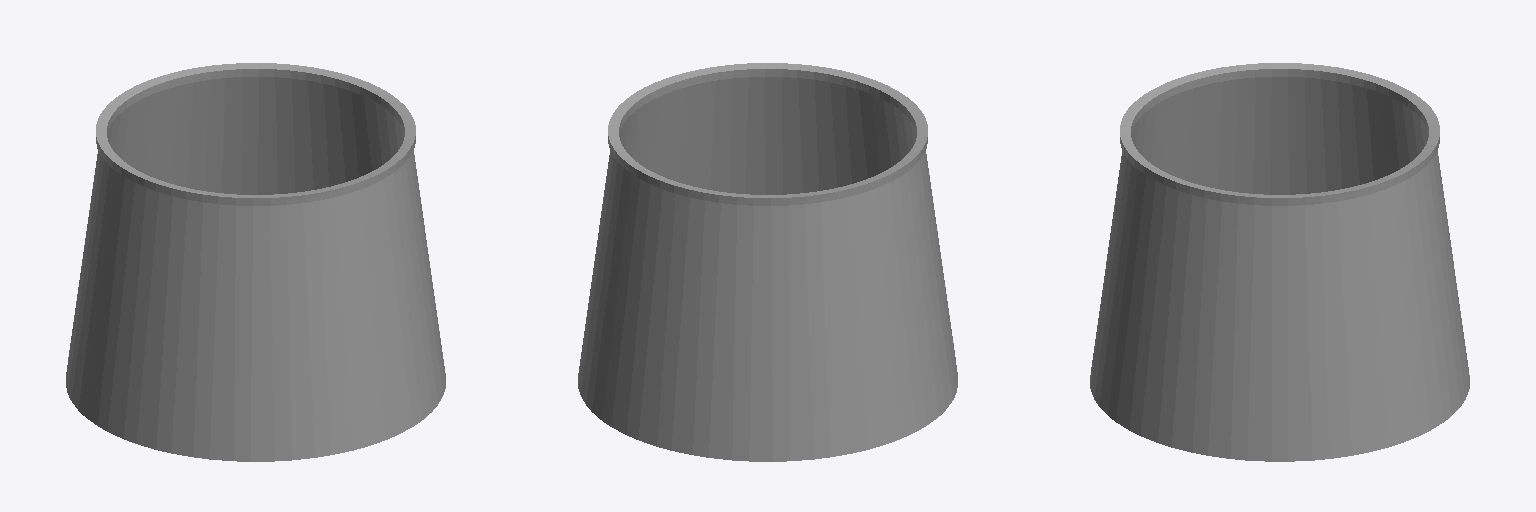
The model's file is MidBox.obj.
3 renders of one model, left to right at view 1: azimuth 30°, elevation 25°; view 2: azimuth 150°, elevation 25°; view 3: azimuth 270°, elevation 25°, orthographic.
Parts seen in each view (by area): view 1: Object002; view 2: Object002; view 3: Object002.
Part boxes in pixels (left/top/right/bottom): Object002: left=66, top=63, right=445, bottom=461; Object002: left=578, top=63, right=957, bottom=461; Object002: left=1090, top=63, right=1469, bottom=461.
Size of the model in its own units: 152 by 110 by 152.